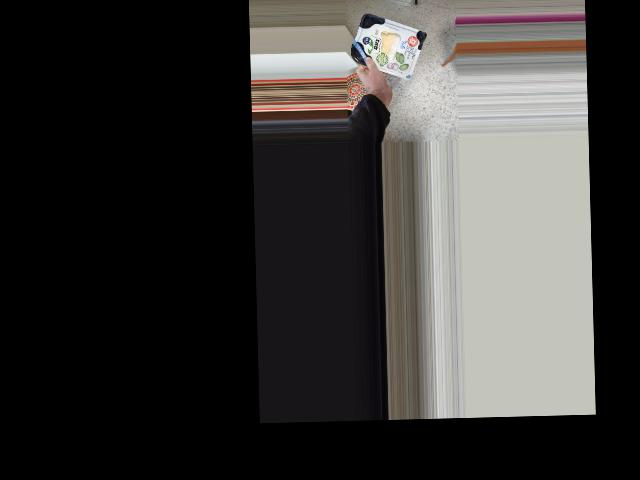cheese: (358, 24, 420, 74)
